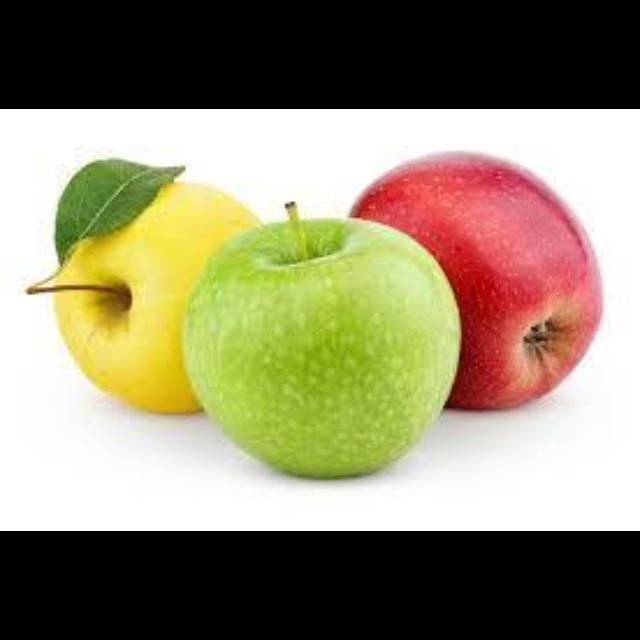apple: (183, 213, 459, 475), (350, 153, 601, 406), (53, 183, 255, 410)
